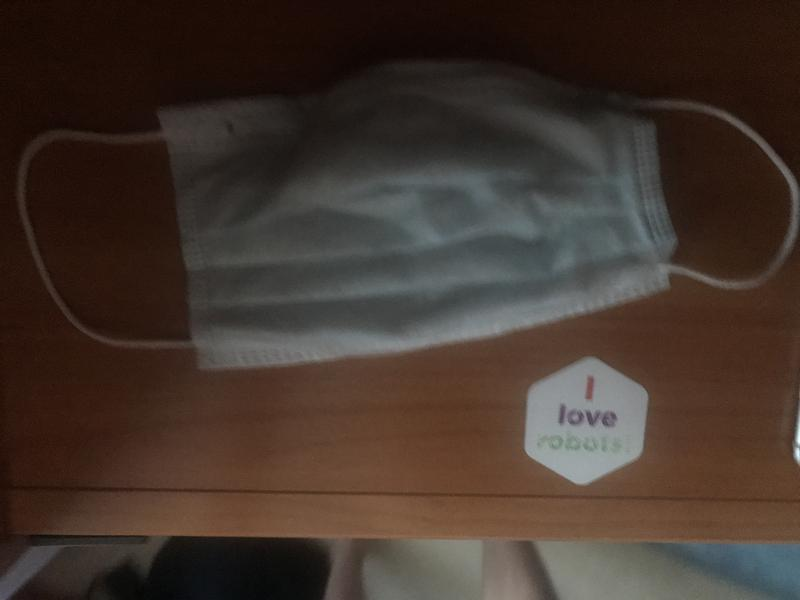medical_mask: (14, 56, 800, 370)
